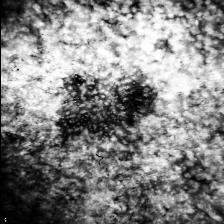Potentially Malignant Skin Tumors: (58, 70, 158, 141)
